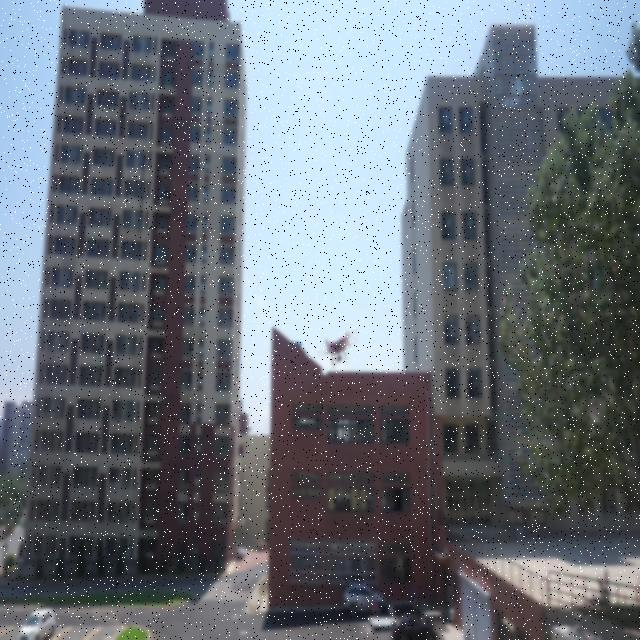UAV: (318, 329, 359, 369)
